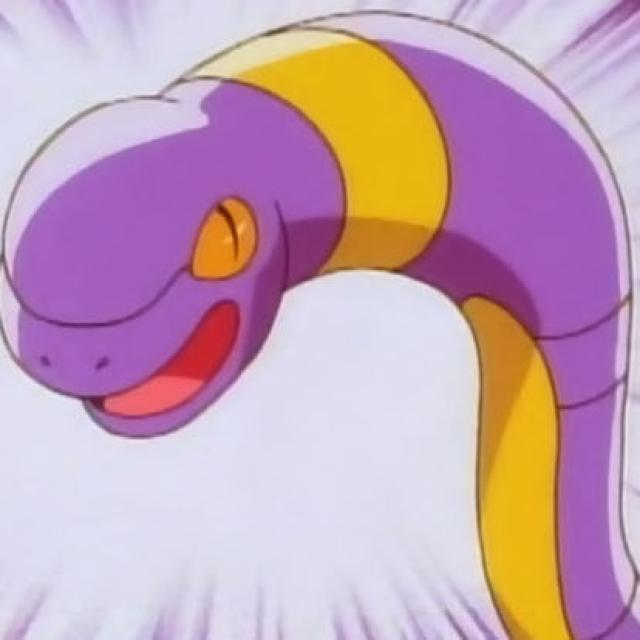Ekans: (5, 13, 640, 626)
